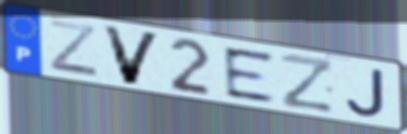2: (166, 36, 217, 99)
E: (220, 45, 278, 105)
J: (343, 66, 387, 119)
V: (99, 23, 165, 87)
Z: (278, 50, 336, 115), (47, 18, 102, 80)
